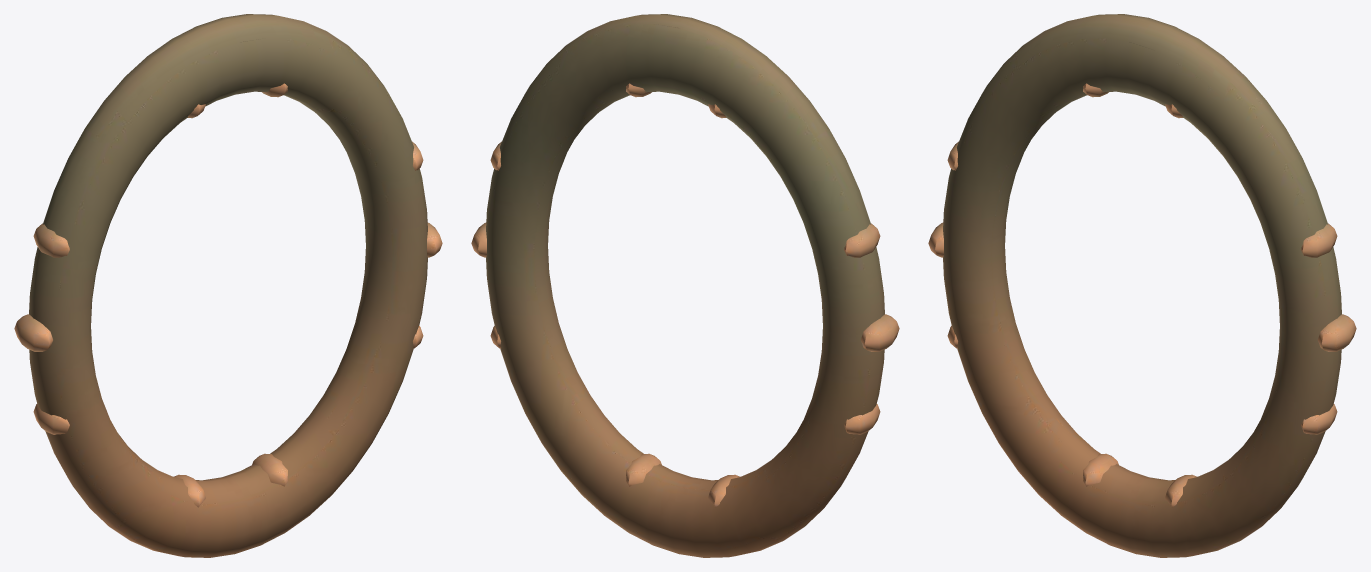
Rendered from copper_ring.glb.
The picture shows the model from 3 angles, left to right: view 1: azimuth 30°, elevation 25°; view 2: azimuth 150°, elevation 25°; view 3: azimuth 330°, elevation 25°; orthographic projection.
Parts seen in each view (by area): view 1: copper_ring; view 2: copper_ring; view 3: copper_ring.
Boxes of the visible parts, x1,y1,x2,y2 form: copper_ring: (14, 14, 442, 557); copper_ring: (471, 14, 899, 557); copper_ring: (928, 14, 1356, 557).
Size of the model in its own units: 0.0766 by 0.0936 by 0.00975.
Materials: 1 (1 with a texture image).
